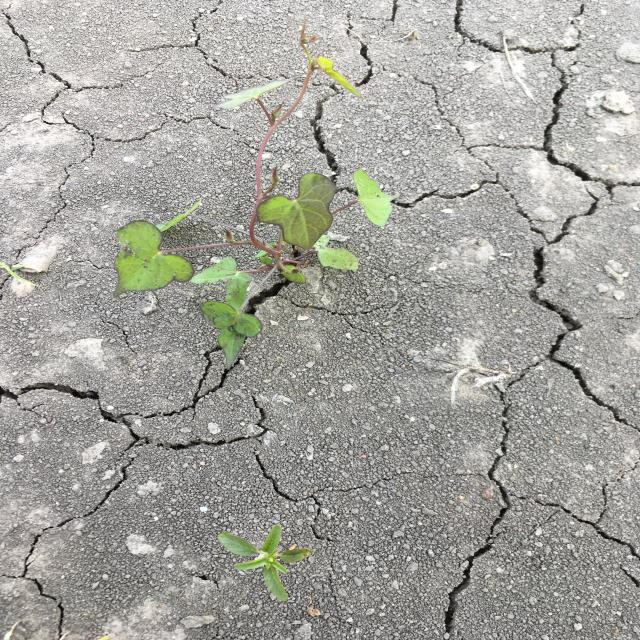MorningGlory: (110, 16, 403, 373)
Waterhemp: (215, 524, 314, 606)
